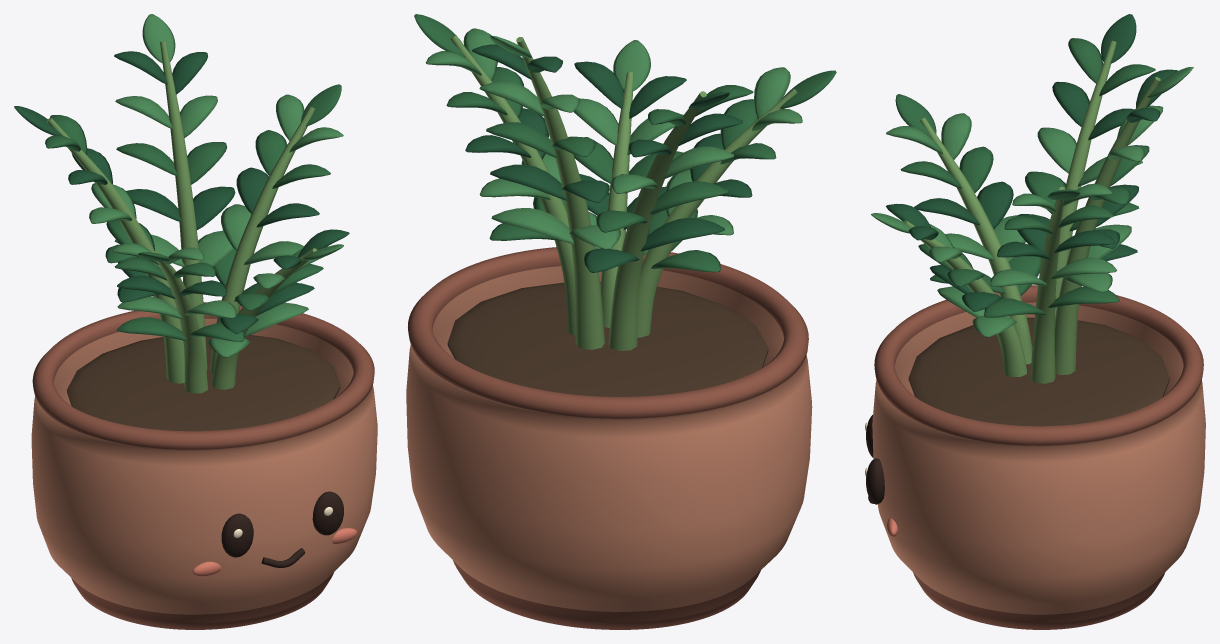
File: zz-plant-v1.glb
3 views of the same model, side by side, from view 1: azimuth 30°, elevation 25°; view 2: azimuth 150°, elevation 25°; view 3: azimuth 270°, elevation 25° (orthographic). The views are drawn at different scales.
Visible parts, largest first — view 1: Wheel-thrown ceramic, Soil, Arching compound-leaf stalk.001, Arching compound-leaf stalk, Arching compound-leaf stalk.002, Arching compound-leaf stalk.003, Arching compound-leaf stalk.004, Glossy paired leaflet.012, Eye, Eye.001, Terminal leaflet.001, Glossy paired leaflet.014 (+30 smaller); view 2: Wheel-thrown ceramic, Soil, Arching compound-leaf stalk.001, Arching compound-leaf stalk.002, Arching compound-leaf stalk.003, Arching compound-leaf stalk, Arching compound-leaf stalk.004, Glossy paired leaflet.010, Glossy paired leaflet.021, Glossy paired leaflet.012, Terminal leaflet.004, Glossy paired leaflet.039 (+29 smaller); view 3: Wheel-thrown ceramic, Soil, Arching compound-leaf stalk.001, Arching compound-leaf stalk, Arching compound-leaf stalk.003, Arching compound-leaf stalk.002, Arching compound-leaf stalk.004, Glossy paired leaflet.025, Glossy paired leaflet.034, Terminal leaflet.002, Glossy paired leaflet.036, Glossy paired leaflet.027 (+28 smaller).
Boxes of the visible parts, x1,y1,x2,y2 form: Wheel-thrown ceramic: (31,302,377,629); Soil: (67,335,340,431); Arching compound-leaf stalk.001: (160,41,207,370); Arching compound-leaf stalk: (210,106,315,374); Arching compound-leaf stalk.002: (47,118,184,383); Arching compound-leaf stalk.003: (154,251,208,393); Arching compound-leaf stalk.004: (211,248,317,389); Glossy paired leaflet.012: (193,186,235,229); Eye: (221,513,253,557); Eye.001: (312,491,343,535); Terminal leaflet.001: (142,14,175,63); Glossy paired leaflet.014: (187,142,227,184); Wheel-thrown ceramic: (406,247,812,629); Soil: (447,281,768,396); Arching compound-leaf stalk.001: (516,37,604,349); Arching compound-leaf stalk.002: (608,91,706,350); Arching compound-leaf stalk.003: (637,89,797,337); Arching compound-leaf stalk: (450,35,575,335); Arching compound-leaf stalk.004: (600,72,633,328); Glossy paired leaflet.010: (491,208,574,244); Glossy paired leaflet.021: (641,217,724,251); Glossy paired leaflet.012: (490,164,567,200); Terminal leaflet.004: (613,40,650,91); Glossy paired leaflet.039: (754,67,790,119); Wheel-thrown ceramic: (872,285,1205,629); Soil: (908,317,1169,426); Arching compound-leaf stalk.001: (1054,77,1160,374); Arching compound-leaf stalk: (1030,186,1065,383); Arching compound-leaf stalk.003: (920,117,1032,364); Arching compound-leaf stalk.002: (1055,40,1116,319); Arching compound-leaf stalk.004: (903,220,1026,376); Glossy paired leaflet.025: (1037,127,1076,173); Glossy paired leaflet.034: (977,181,1013,228); Terminal leaflet.002: (1101,14,1136,63); Glossy paired leaflet.036: (959,146,993,192); Glossy paired leaflet.027: (1052,81,1089,126).
Size of the model in its own units: 1.62 by 2.58 by 1.53.
